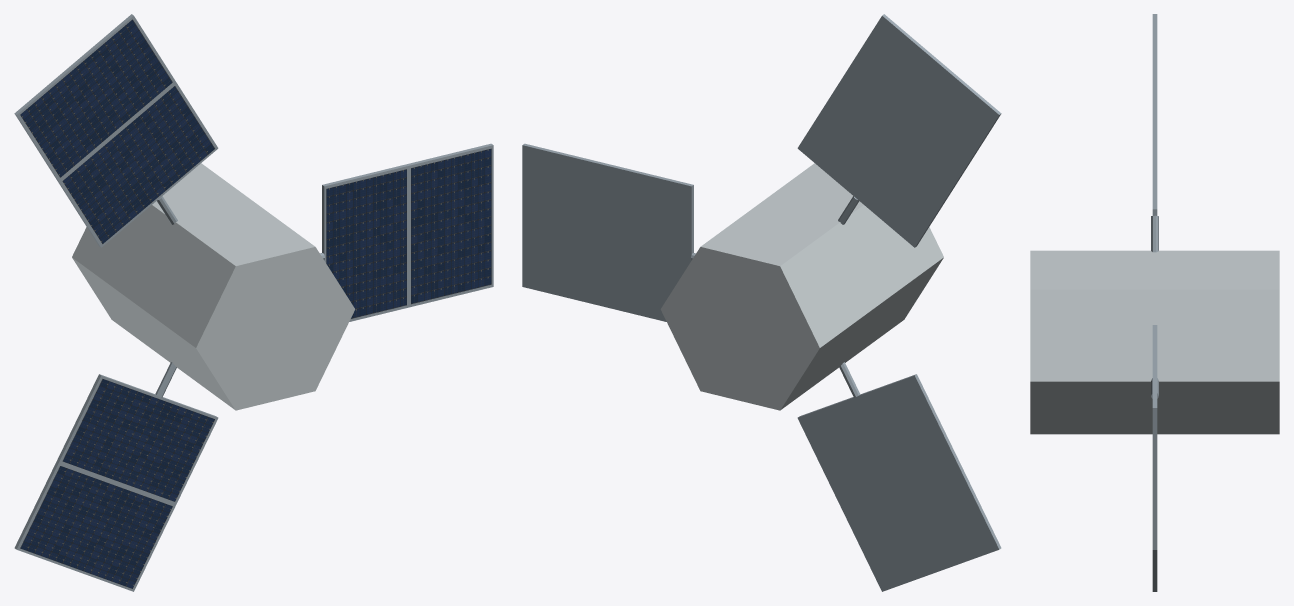
The model's file is ref-astrosat-500l-38755.glb.
3 renders of one model, left to right at view 1: azimuth 30°, elevation 25°; view 2: azimuth 150°, elevation 25°; view 3: azimuth 270°, elevation 25°, orthographic.
Visible parts, largest first — view 1: Photovoltaic laminates (×6), Spacecraft body, Array frame (×6); view 2: Array frame (×6), Spacecraft body; view 3: Spacecraft body, Array frame (×3).
Part boxes in pixels (box(x1,y1,x2,y2)): Photovoltaic laminates (×6): box(20, 19, 491, 588); Spacecraft body: box(72, 163, 355, 410); Array frame (×6): box(14, 14, 493, 591); Array frame (×6): box(522, 14, 1001, 591); Spacecraft body: box(660, 163, 943, 410); Spacecraft body: box(1030, 250, 1279, 434); Array frame (×3): box(1152, 14, 1157, 549).
Bounding box in the file's own units: 5.99 × 6.91 × 2.7.
3 materials, 1 textured.
